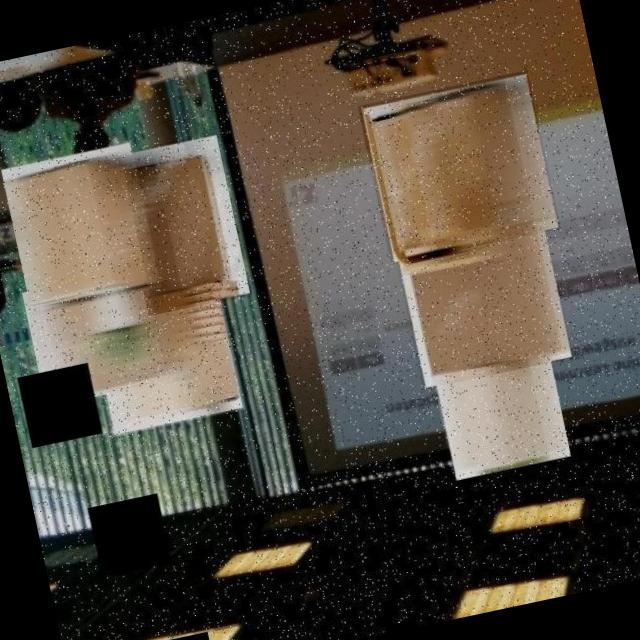box: (357, 70, 560, 264), (393, 218, 573, 389), (0, 138, 161, 314), (82, 271, 245, 437), (114, 132, 251, 316), (18, 263, 171, 409), (430, 341, 572, 482)
